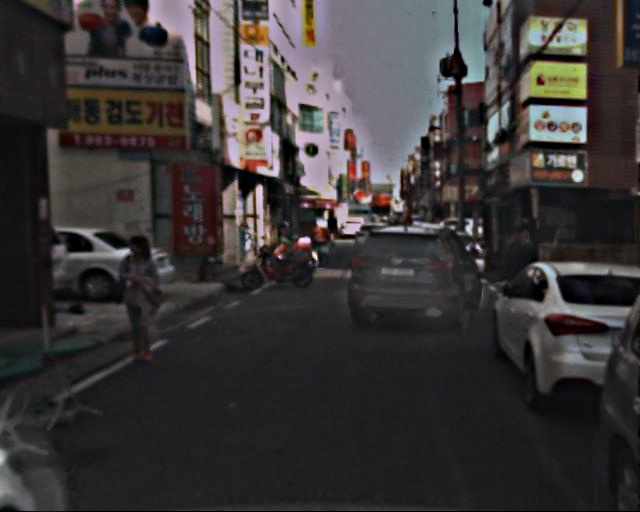person: (113, 233, 174, 365), (503, 224, 551, 326)
